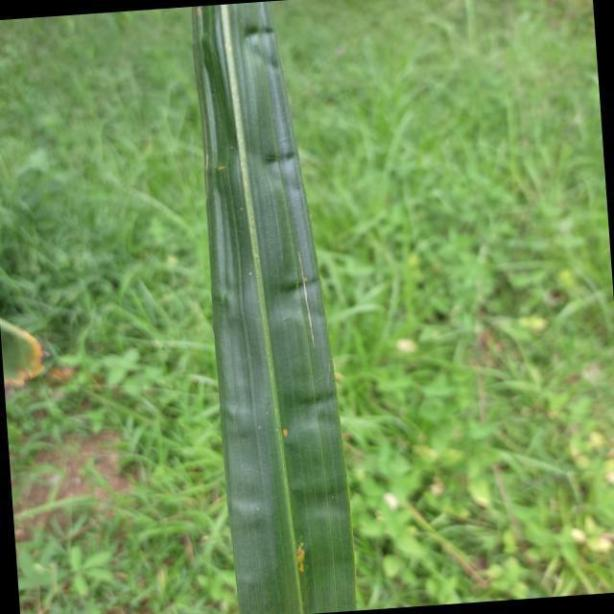Boron: (187, 3, 353, 614)
